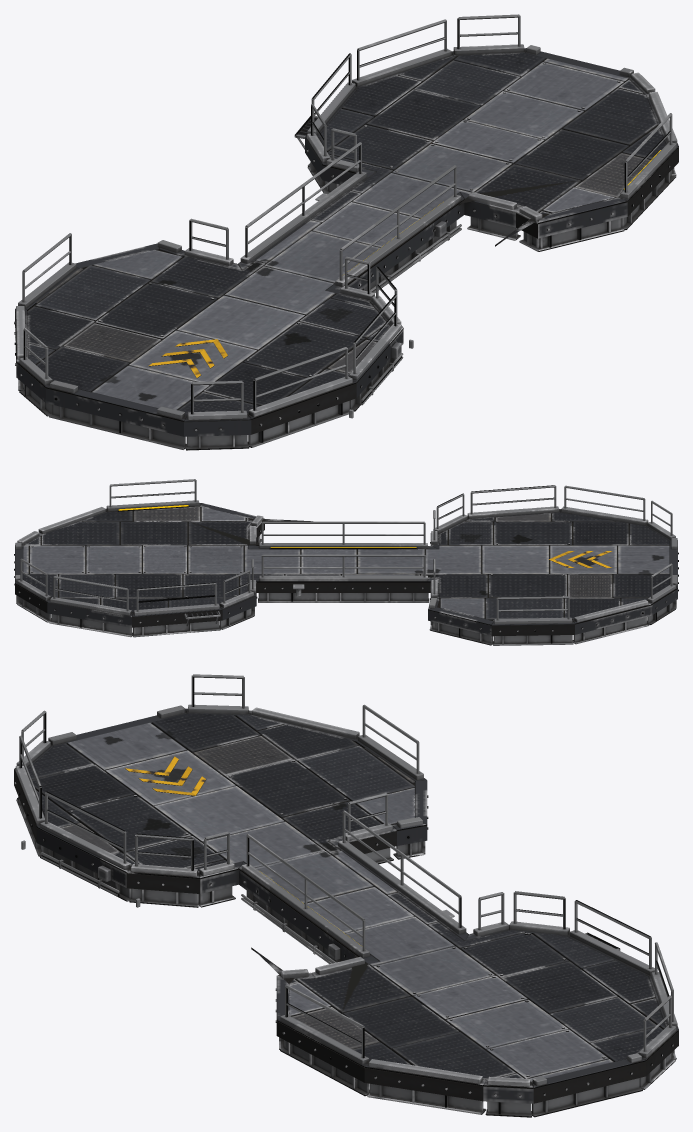
The model's file is nodexeus-set-deck-l1.glb.
3 renders of one model, top to bottom at view 1: azimuth 30°, elevation 25°; view 2: azimuth 150°, elevation 25°; view 3: azimuth 270°, elevation 25°, orthographic. The views are drawn at different scales.
Parts seen in each view (by area): view 1: set-deck-l1; view 2: set-deck-l1; view 3: set-deck-l1.
Part boxes in pixels (bbox=[...]): set-deck-l1: bbox=[14, 14, 678, 450]; set-deck-l1: bbox=[14, 479, 678, 645]; set-deck-l1: bbox=[14, 674, 678, 1117].
Size of the model in its own units: 22.11 by 1.84 by 16.4.
Materials: 1 (1 with a texture image).
